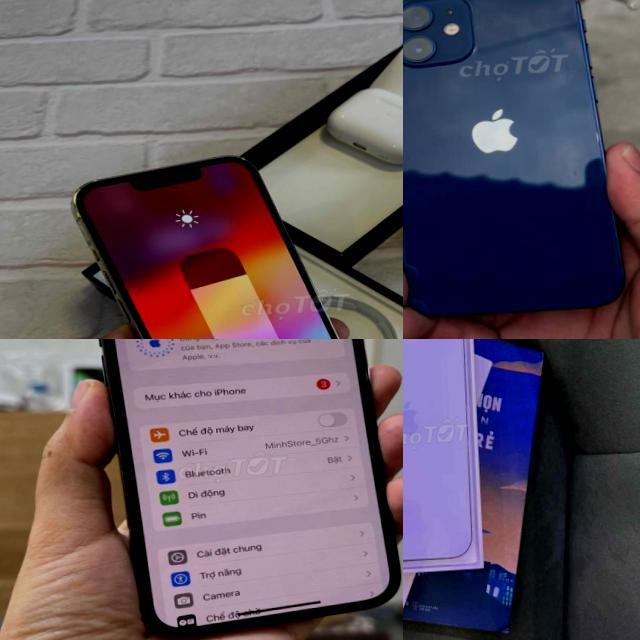gen_12_13: (79, 339, 403, 640), (403, 0, 640, 338), (69, 148, 375, 339)
gen_15: (403, 339, 487, 595)
